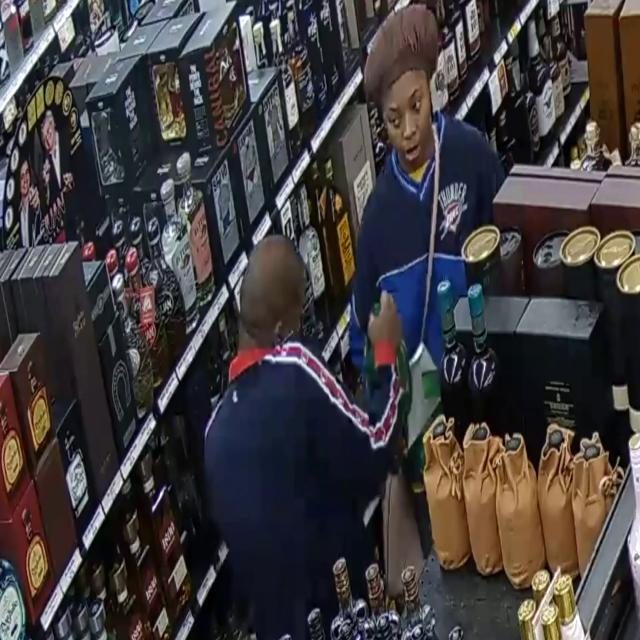Product: (359, 293, 414, 406)
normal: (337, 0, 540, 557)
shoplifting: (203, 220, 465, 640)
